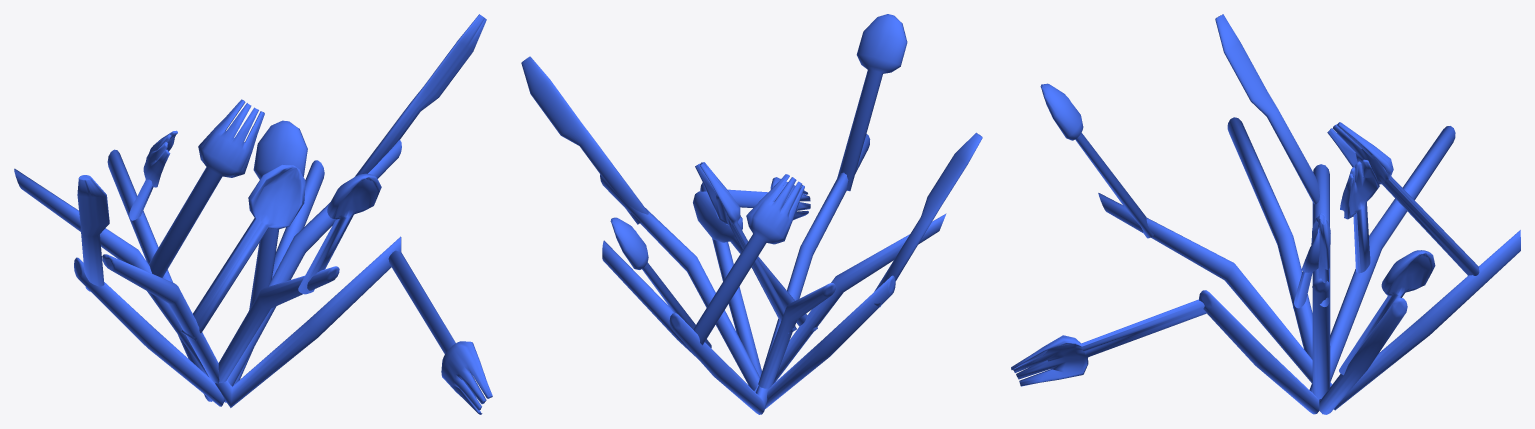
File: BlueCoral.gltf
The picture shows the model from 3 angles, left to right: view 1: azimuth 30°, elevation 25°; view 2: azimuth 150°, elevation 25°; view 3: azimuth 270°, elevation 25°; orthographic projection. The views are drawn at different scales.
Parts seen in each view (by area): view 1: PinkCoralOne; view 2: PinkCoralOne; view 3: PinkCoralOne.
Part boxes in pixels (<box>): PinkCoralOne: <box>14,14,492,414</box>; PinkCoralOne: <box>521,14,982,414</box>; PinkCoralOne: <box>1011,14,1520,414</box>.
Bounding box in the file's own units: 2.76 × 1.92 × 2.71.
